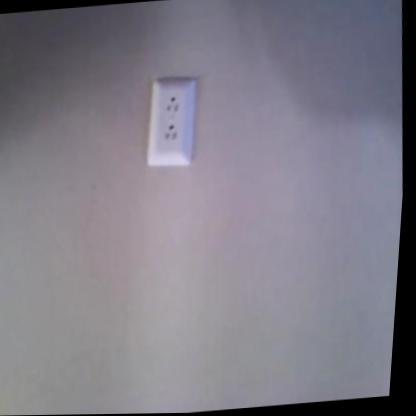OUTLET: (141, 77, 203, 167)
